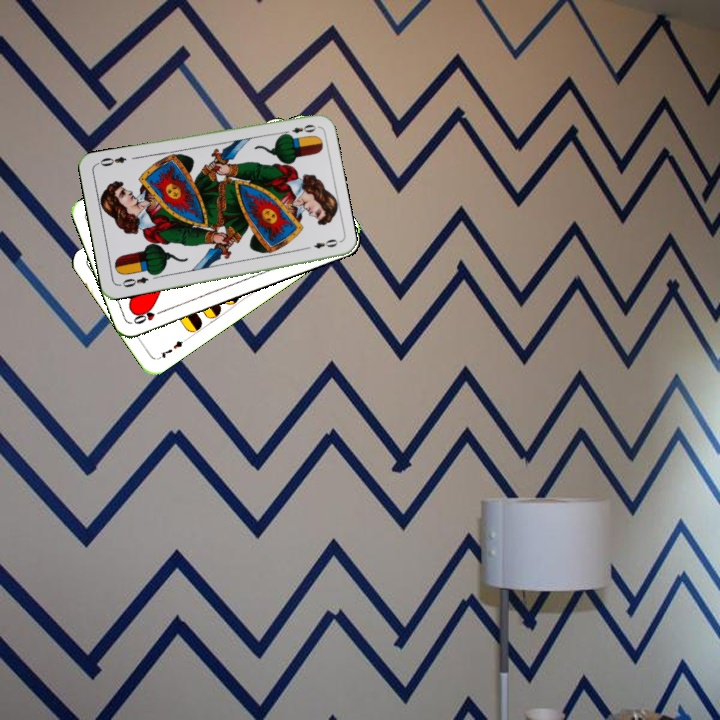E7: (154, 334, 189, 362)
EO: (279, 120, 318, 139), (118, 273, 151, 290)
HO: (129, 305, 168, 327)
